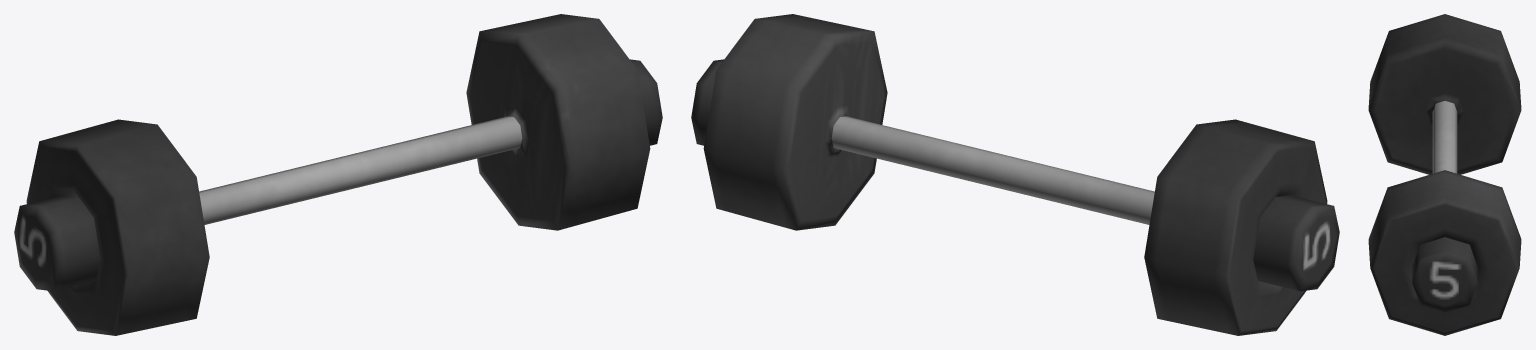
Rendered from weight.fbx.
3 views of the same model, side by side, from view 1: azimuth 30°, elevation 25°; view 2: azimuth 150°, elevation 25°; view 3: azimuth 270°, elevation 25° (orthographic). The views are drawn at different scales.
Parts seen in each view (by area): view 1: polySurface388; view 2: polySurface388; view 3: polySurface388.
Part boxes in pixels (bbox=[...]): polySurface388: bbox=[14, 14, 662, 335]; polySurface388: bbox=[691, 14, 1339, 335]; polySurface388: bbox=[1368, 14, 1521, 335].
Size of the model in its own units: 1.88 by 0.5609 by 0.5609.
1 material, 1 textured.
